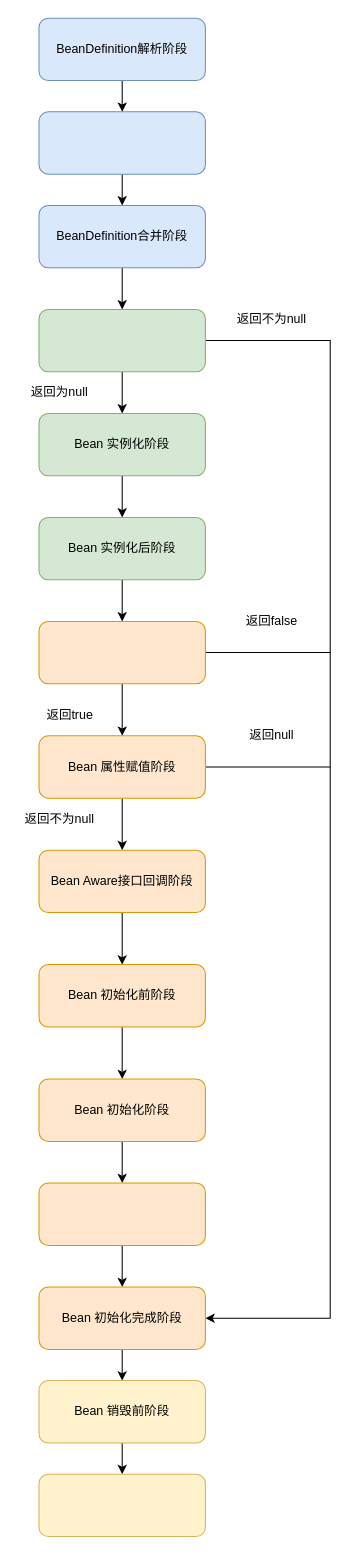
The diagram is 357 pixels wide and 1555 high, and some of its shapes have lost their labels. The box of each missing label's shape, as (x1, y1, x2, y2) in pixels:
Bean 初始化后阶段: (38, 1182, 205, 1245)
Bean 实例化前阶段: (38, 308, 205, 372)
Bean 属性赋值前阶段: (38, 620, 205, 684)
Bean 销毁阶段: (38, 1473, 205, 1537)
BeanDefinition注册阶段: (38, 111, 205, 174)
